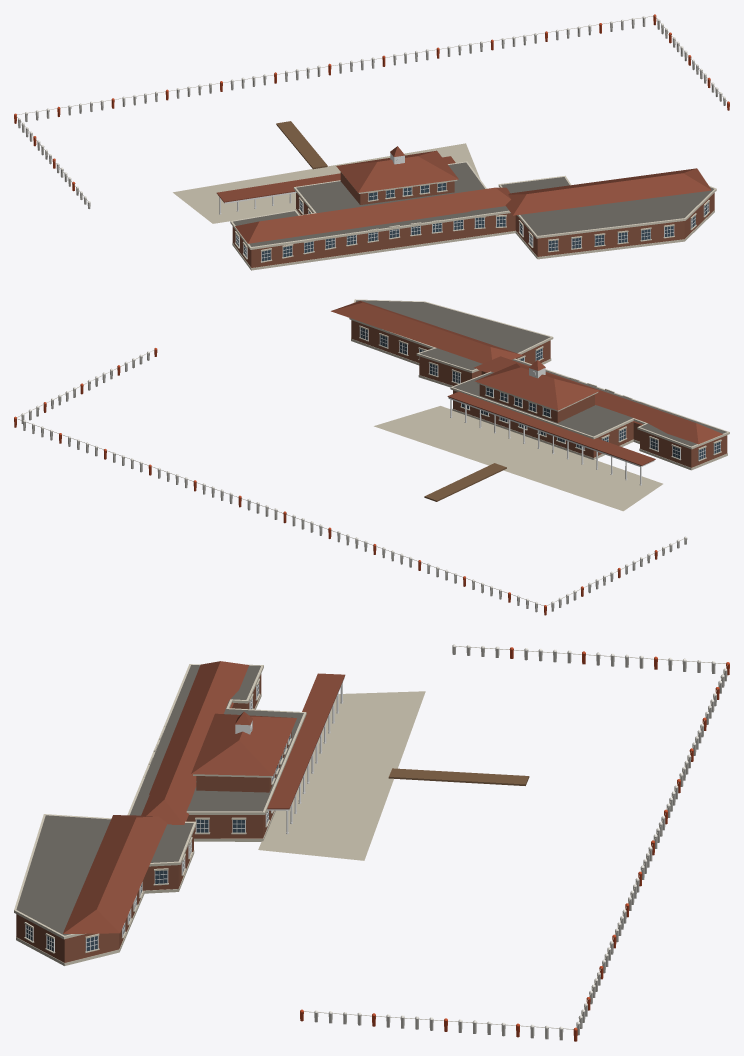
File: serpentine_lido.glb
3 views of the same model, one above another, from view 1: azimuth 30°, elevation 25°; view 2: azimuth 150°, elevation 25°; view 3: azimuth 270°, elevation 25° (orthographic). The views are drawn at different scales.
Size of the model in its own units: 99.18 by 12.27 by 77.28.
